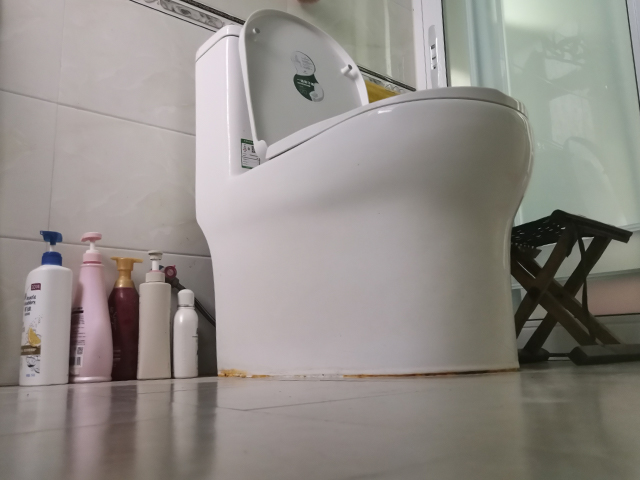closestool: (193, 7, 536, 375)
stool: (509, 209, 640, 366)
